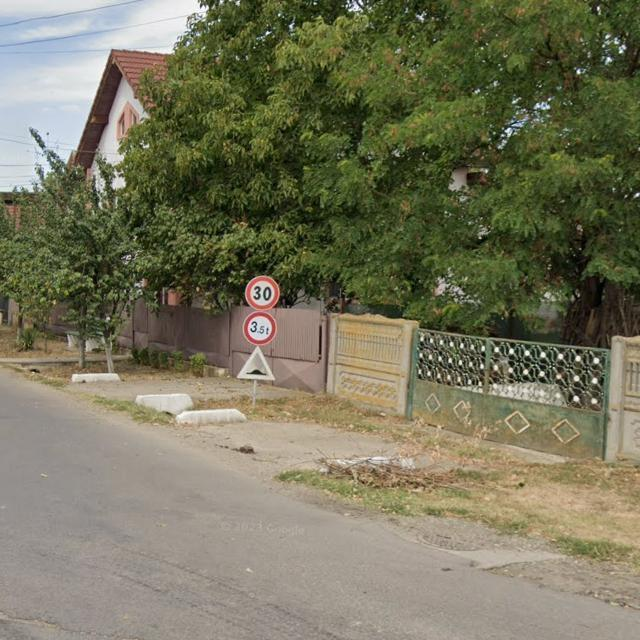forb_speed_over_30: (246, 276, 279, 310)
